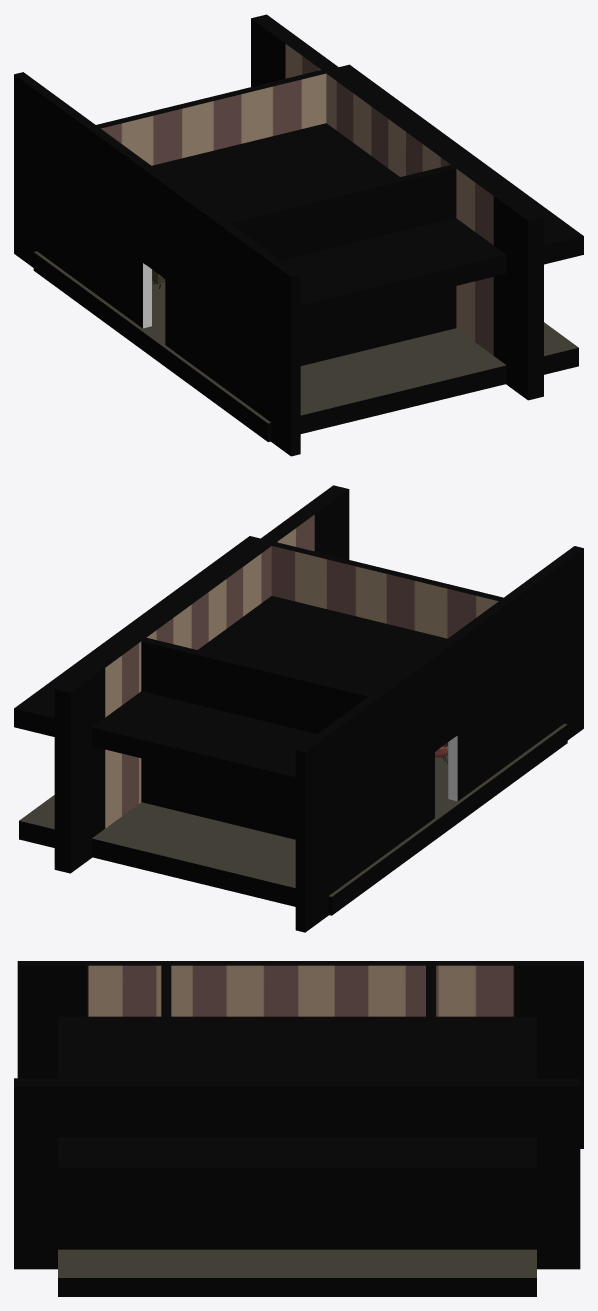
Rendered from Room1.fbx.
3 views of the same model, one above another, from view 1: azimuth 30°, elevation 25°; view 2: azimuth 150°, elevation 25°; view 3: azimuth 270°, elevation 25° (orthographic). The views are drawn at different scales.
Visible parts, largest first — view 1: Room Material; view 2: Room Material, None.001; view 3: Room Material.
Boxes of the visible parts, box(x1,y1,x2,y2) form: Room Material: box(14, 14, 583, 456); Room Material: box(14, 485, 583, 932); None.001: box(448, 736, 457, 801); Room Material: box(14, 961, 583, 1296).
Size of the model in its own units: 1795 by 974 by 2745.
6 materials, 6 textured.
